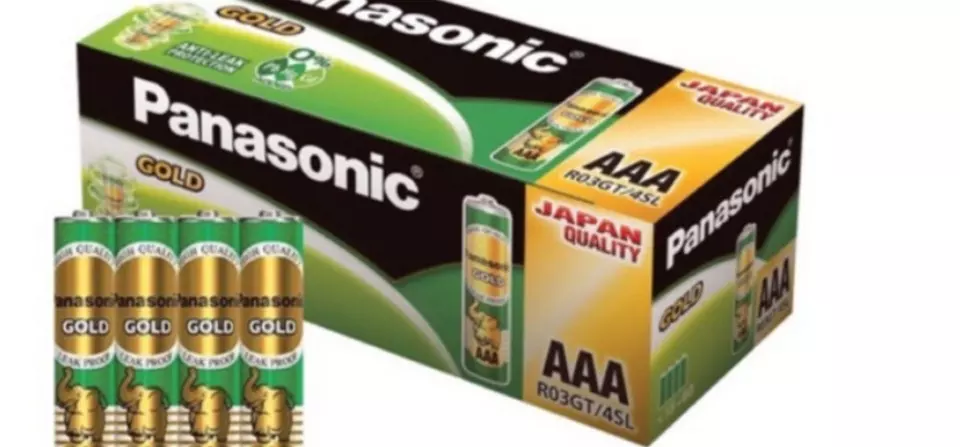Battery: (53, 207, 119, 447), (240, 208, 305, 447), (178, 207, 241, 447), (117, 208, 179, 447)
